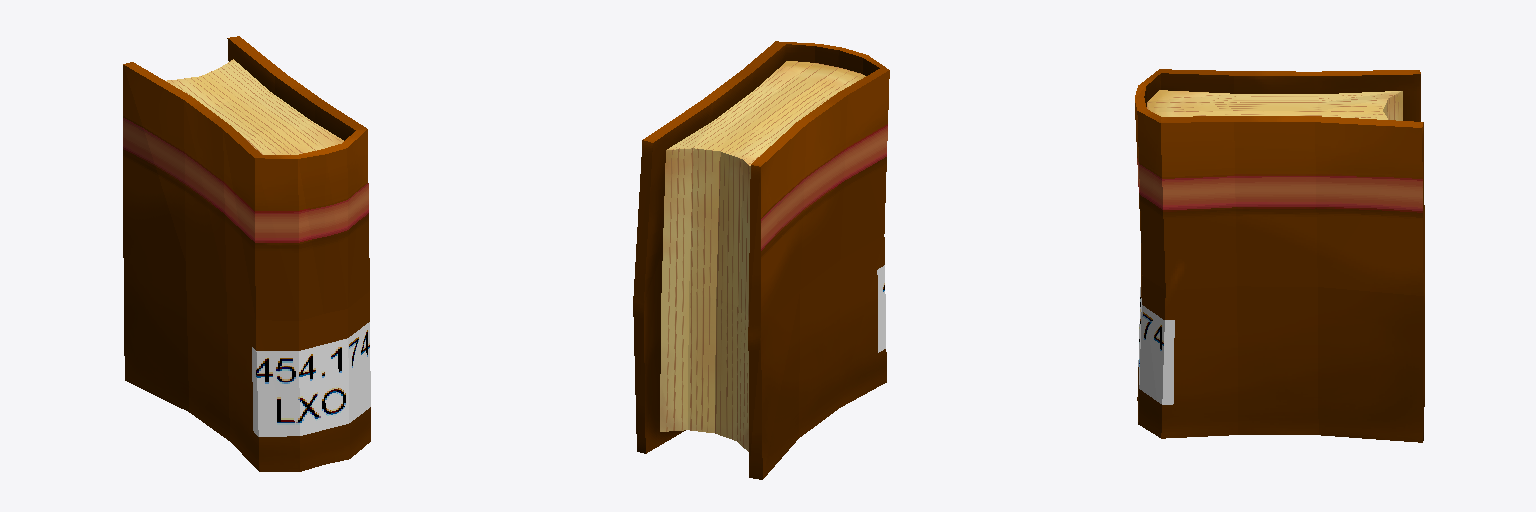
3 renders of one model, left to right at view 1: azimuth 30°, elevation 25°; view 2: azimuth 150°, elevation 25°; view 3: azimuth 270°, elevation 25°, orthographic.
Visible parts, largest first — view 1: Cover.001, Pages.002; view 2: Cover.001, Pages.002; view 3: Cover.001, Pages.002.
Boxes of the visible parts, x1=… form: Cover.001: x1=123, y1=36, x2=370, y2=471; Pages.002: x1=166, y1=59, x2=343, y2=154; Cover.001: x1=633, y1=41, x2=889, y2=479; Pages.002: x1=660, y1=61, x2=865, y2=451; Cover.001: x1=1135, y1=69, x2=1424, y2=442; Pages.002: x1=1147, y1=90, x2=1402, y2=120.
Bounding box in the file's own units: 2.93 × 7.05 × 5.85.
Materials: 2 (2 with a texture image).